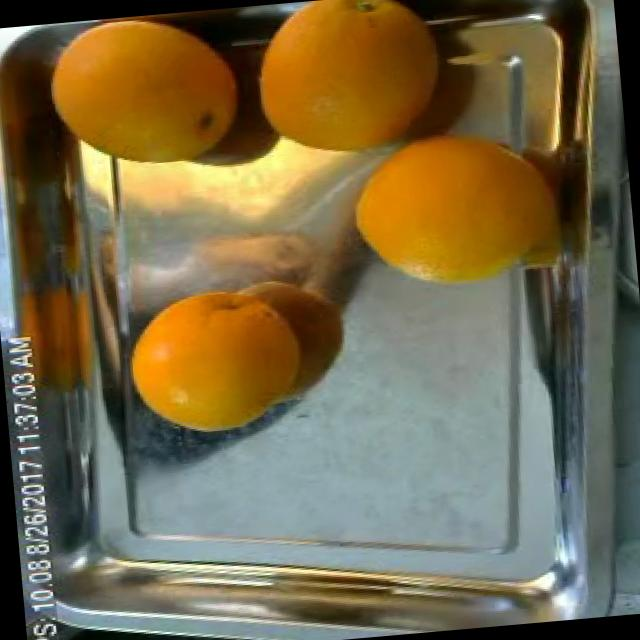Fruit: (113, 272, 328, 456), (164, 0, 321, 58)
